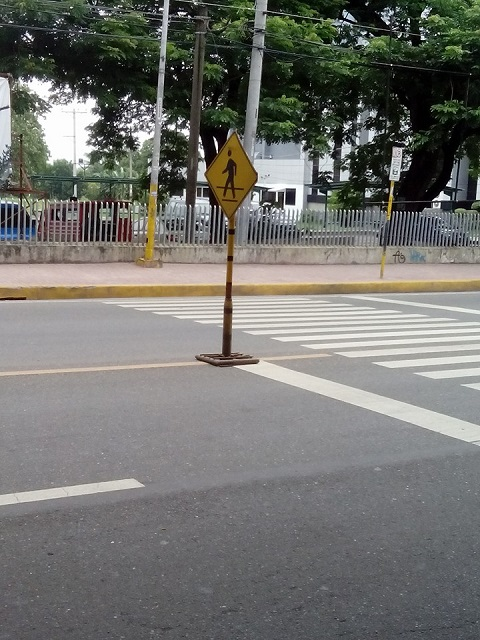pedestrian lane: (105, 294, 480, 396)
pole: (145, 2, 167, 267), (186, 8, 205, 205), (245, 1, 267, 167), (223, 214, 235, 355), (378, 180, 393, 277)
tree: (402, 17, 460, 189)
